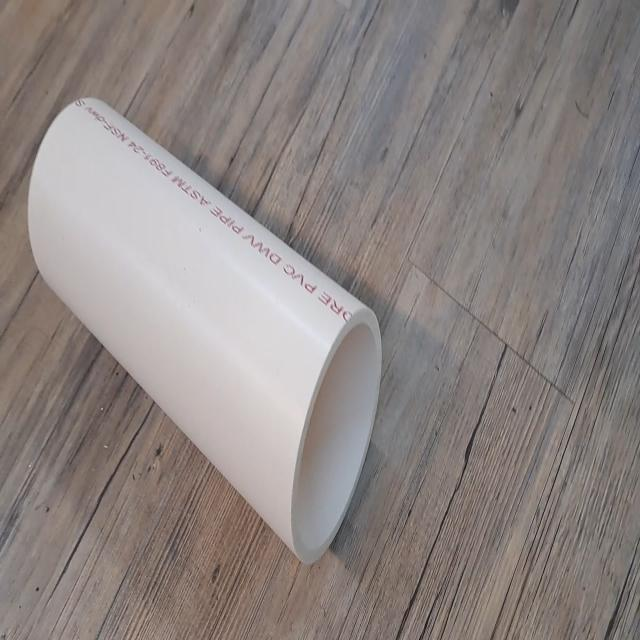CORAL: (25, 90, 387, 570)
